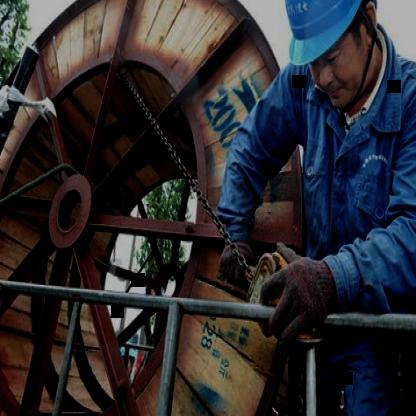helmet: (279, 0, 393, 112)
